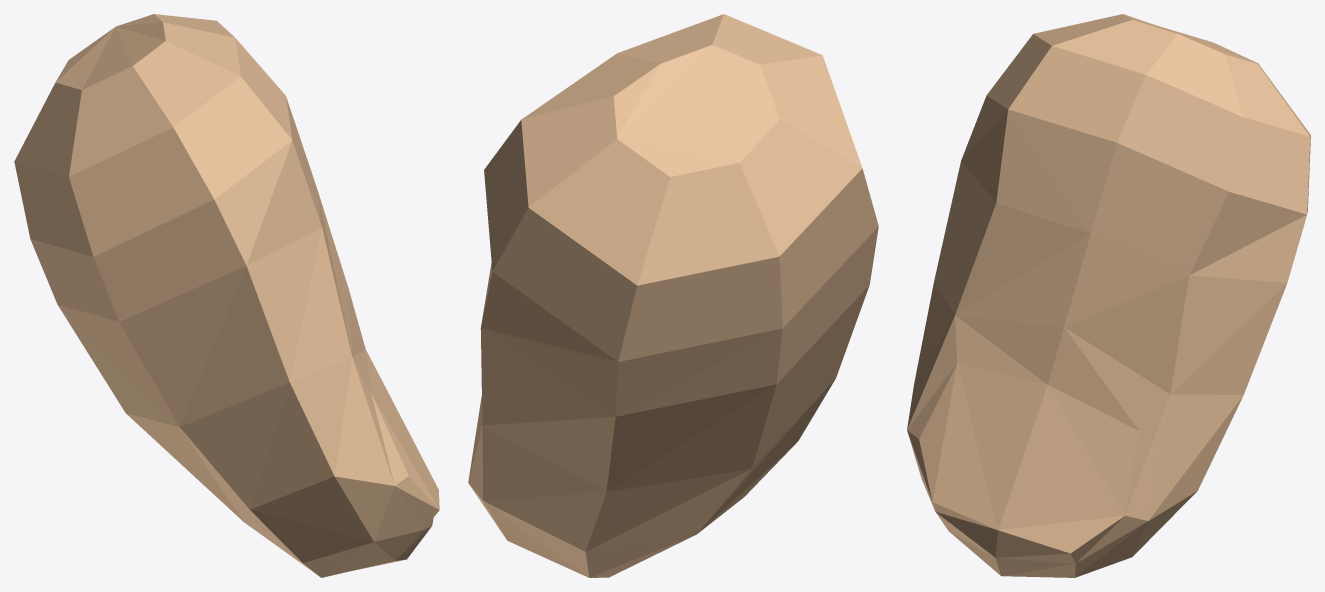
The model's file is LThumb2_mesh.dae.
The picture shows the model from 3 angles, left to right: view 1: azimuth 30°, elevation 25°; view 2: azimuth 150°, elevation 25°; view 3: azimuth 270°, elevation 25°; orthographic projection. The views are drawn at different scales.
Visible parts, largest first — view 1: LThumb2; view 2: LThumb2; view 3: LThumb2.
Part boxes in pixels (x1=…): LThumb2: x1=14, y1=14, x2=439, y2=577; LThumb2: x1=468, y1=14, x2=878, y2=577; LThumb2: x1=907, y1=14, x2=1310, y2=577.
Bounding box in the file's own units: 0.0196 × 0.0288 × 0.0215.
